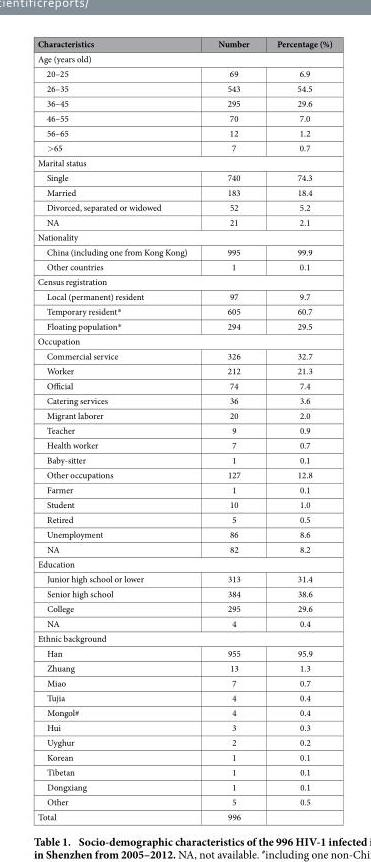table: (36, 37, 331, 822)
table column: (36, 37, 202, 822), (262, 37, 331, 822), (202, 37, 262, 822)
table column header: (36, 37, 331, 50)
table projected row header: (36, 50, 331, 65), (36, 154, 331, 169), (36, 229, 331, 244), (36, 273, 331, 288), (36, 333, 331, 348), (36, 556, 331, 571), (36, 630, 331, 645)
table row: (36, 50, 331, 65), (36, 65, 331, 80), (36, 80, 331, 95), (36, 95, 331, 110), (36, 110, 331, 125), (36, 125, 331, 140), (36, 154, 331, 169), (36, 169, 331, 184), (36, 184, 331, 199), (36, 199, 331, 214), (36, 214, 331, 229), (36, 229, 331, 244), (36, 244, 331, 259), (36, 273, 331, 288), (36, 288, 331, 303), (36, 303, 331, 318), (36, 318, 331, 333), (36, 333, 331, 348), (36, 348, 331, 363), (36, 377, 331, 392), (36, 392, 331, 407), (36, 407, 331, 422), (36, 422, 331, 437), (36, 437, 331, 452), (36, 452, 331, 467), (36, 481, 331, 496), (36, 496, 331, 511), (36, 511, 331, 526), (36, 526, 331, 541), (36, 541, 331, 556), (36, 556, 331, 571), (36, 585, 331, 600), (36, 600, 331, 615), (36, 615, 331, 630), (36, 630, 331, 645), (36, 645, 331, 660), (36, 660, 331, 675), (36, 689, 331, 704), (36, 704, 331, 719), (36, 719, 331, 734), (36, 734, 331, 749), (36, 749, 331, 764), (36, 764, 331, 779), (36, 779, 331, 794), (36, 140, 331, 154), (36, 259, 331, 273), (36, 363, 331, 377), (36, 467, 331, 481), (36, 571, 331, 585), (36, 675, 331, 689), (36, 794, 331, 808), (36, 808, 331, 822), (36, 37, 331, 50)
